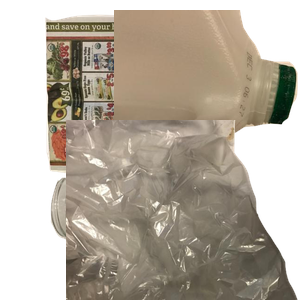glass: (48, 156, 260, 300)
paper: (42, 12, 260, 185)
plastic: (114, 10, 300, 179)
trash: (66, 120, 300, 300)
